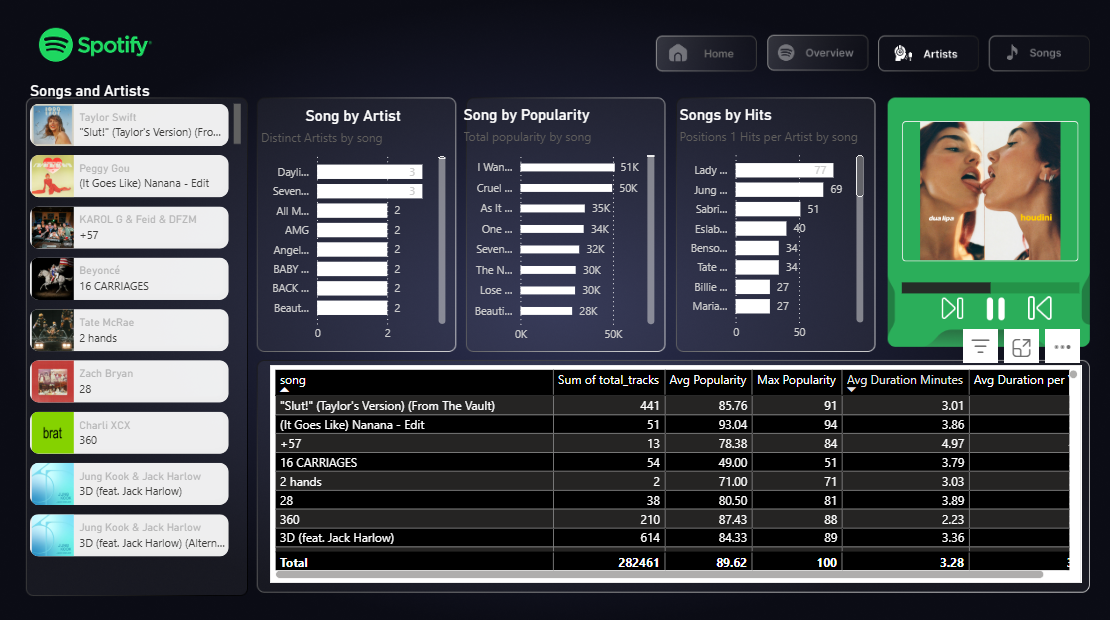

The page's visual inventory and layout, read from the dashboard file:
{"tool":"powerbi","page":{"name":"Page 2","canvas":[1280,720],"ordinal":2},"visuals":[{"type":"image","box":[10,22.9,1270,697.1],"z":0},{"type":"cardVisual","fields":{"Data":["Min(Top-50-world.album_cover_url)"]},"box":[1011.7,141.7,230,190],"z":1000},{"type":"advancedSlicerVisual","title":"Songs and Artists","fields":{"Values":["Top-50-world.song"]},"box":[55.7,114.3,244.3,540],"z":2000},{"type":"clusteredBarChart","title":"Song by Artist","fields":{"Y":["_Measures.Distinct Artists"],"Category":["Top-50-world.song"]},"box":[311.2,142.5,215,270],"z":3000},{"type":"clusteredBarChart","title":"Song by Popularity","fields":{"Category":["Top-50-world.song"],"Y":["Sum(Top-50-world.popularity)"]},"box":[536,142,222,272],"z":4000},{"type":"tableEx","fields":{"Values":["Top-50-world.song","Sum(Top-50-world.total_tracks)","Top-50-world.Avg Popularity","_Measures.Max Popularity","_Measures.Avg Duration Minutes","_Measures.Avg Duration per Year"]},"box":[326,430,902,242],"z":5000},{"type":"image","box":[1069.2,352.5,30,27.5],"z":6000},{"type":"image","box":[1112.5,355,39.2,25],"z":7000},{"type":"image","box":[1160.8,351.7,40.8,30],"z":8000},{"type":"hundredPercentStackedBarChart","fields":{"Y":["Top-50-world.Avg Popularity","Avg(Top-50-world.popularity)"]},"box":[1022.5,307.5,207.5,64.2],"z":9000},{"type":"clusteredBarChart","title":"Songs by Hits","fields":{"Category":["Top-50-world.artist"],"Y":["_Measures.Position1 Hits per Artist"]},"box":[777.1,141.4,214.3,270],"z":10000}]}

Visuals, with their boxes in screenshot pixels (x1, y1, x2, y2), scaled from the page's 1280x720 canvas onto the 1110x620 screenshot:
image: left=9, top=20, right=1109, bottom=619
cardVisual - Min(Top-50-world.album_cover_url): left=877, top=122, right=1077, bottom=286
"Songs and Artists" advancedSlicerVisual: left=48, top=98, right=260, bottom=563
"Song by Artist" clusteredBarChart: left=270, top=123, right=456, bottom=355
"Song by Popularity" clusteredBarChart: left=465, top=122, right=657, bottom=356
tableEx - Top-50-world.song x Sum(Top-50-world.total_tracks): left=283, top=370, right=1065, bottom=579
image: left=927, top=304, right=953, bottom=327
image: left=965, top=306, right=999, bottom=327
image: left=1007, top=303, right=1042, bottom=329
hundredPercentStackedBarChart - Top-50-world.Avg Popularity x Avg(Top-50-world.popularity): left=887, top=265, right=1067, bottom=320
"Songs by Hits" clusteredBarChart: left=674, top=122, right=860, bottom=354
